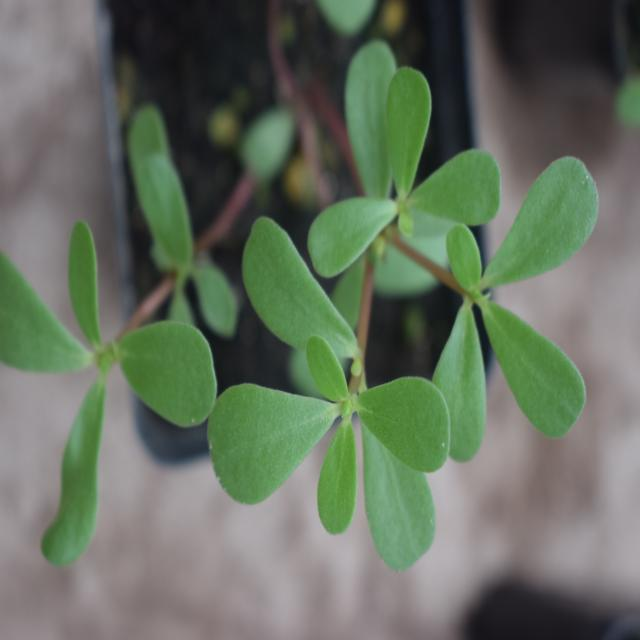purslane: (227, 55, 607, 566), (0, 89, 235, 542)
